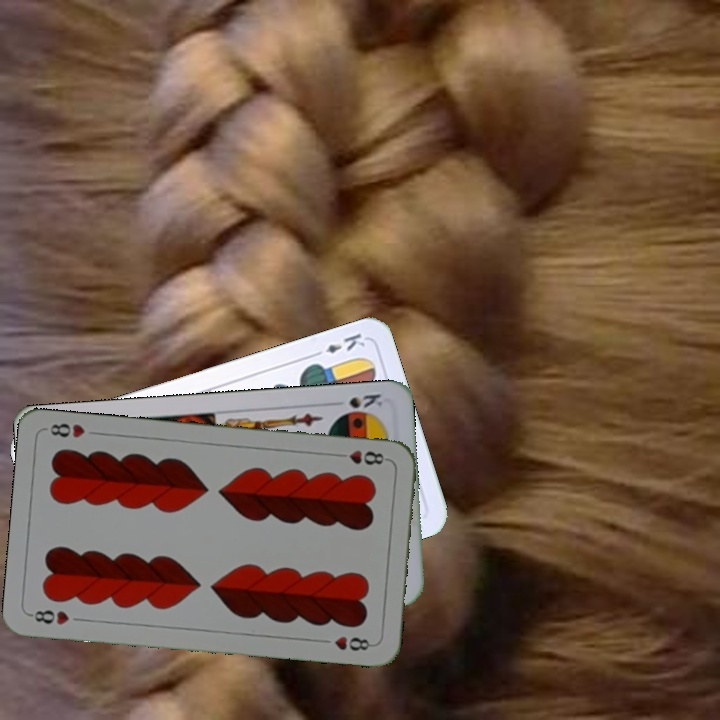EK: (309, 329, 368, 360)
H8: (332, 446, 391, 468), (27, 606, 72, 628)
SK: (328, 390, 385, 411)
